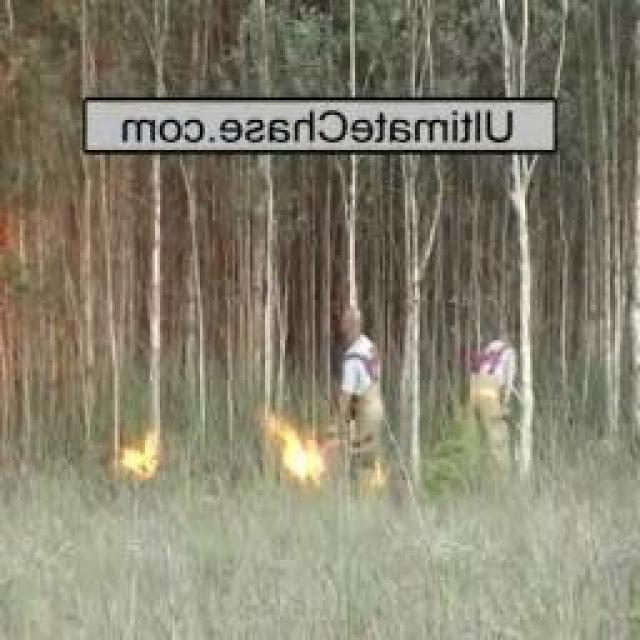Fire: (270, 425, 325, 480), (118, 443, 156, 484), (373, 468, 386, 489)
